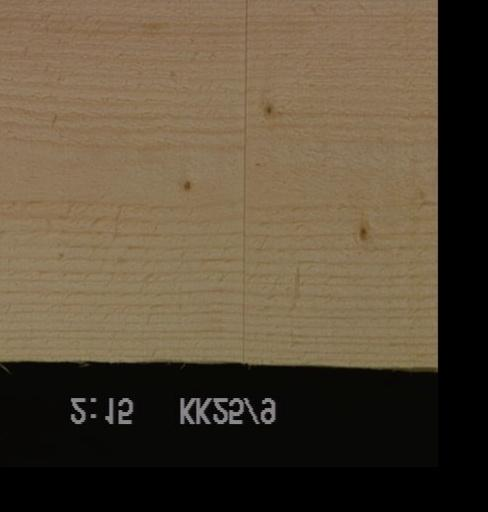small_knot: (349, 220, 380, 246), (258, 97, 283, 122), (174, 175, 199, 195)
